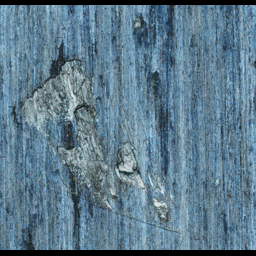d: (9, 42, 176, 224), (131, 13, 149, 41)
